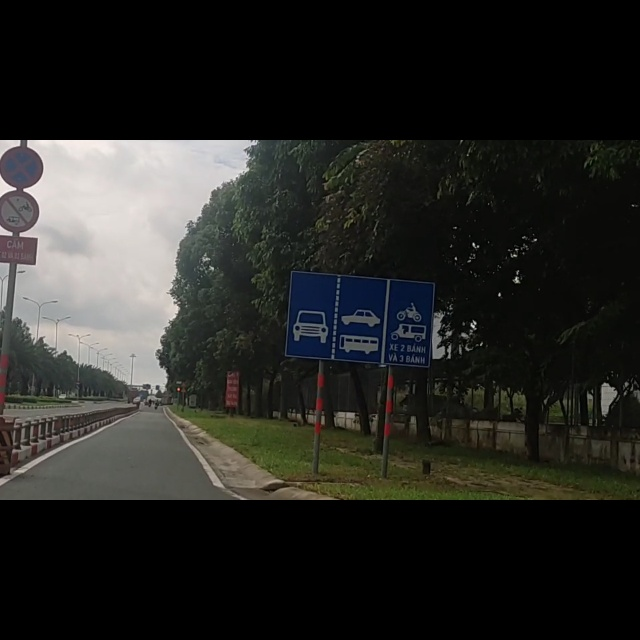bien_cam: (283, 233, 435, 399), (1, 12, 45, 89)
